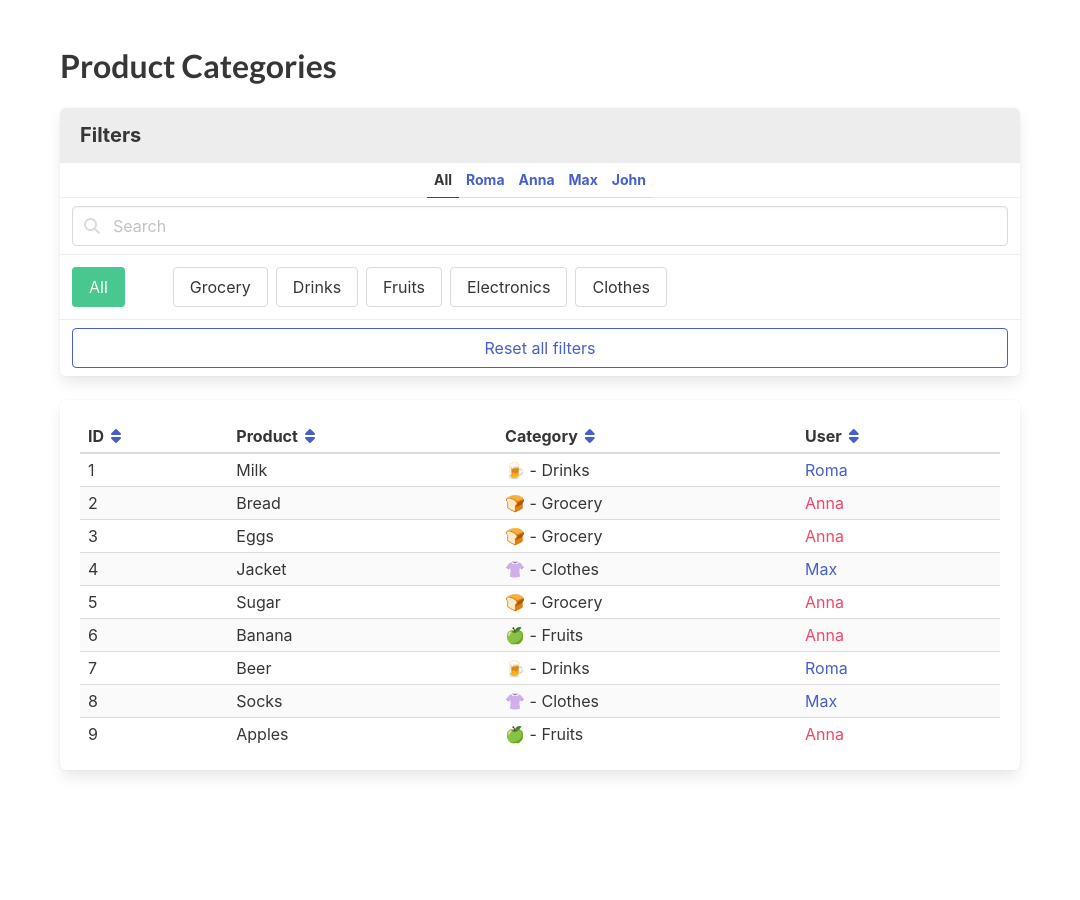
Test: Filter by Product name › should show the initial products after clearing the input
The width and height of the screenshot is (1080, 900).
Type "app" into the field with test id "SearchField" at (540, 226), box [72, 206, 1008, 246]
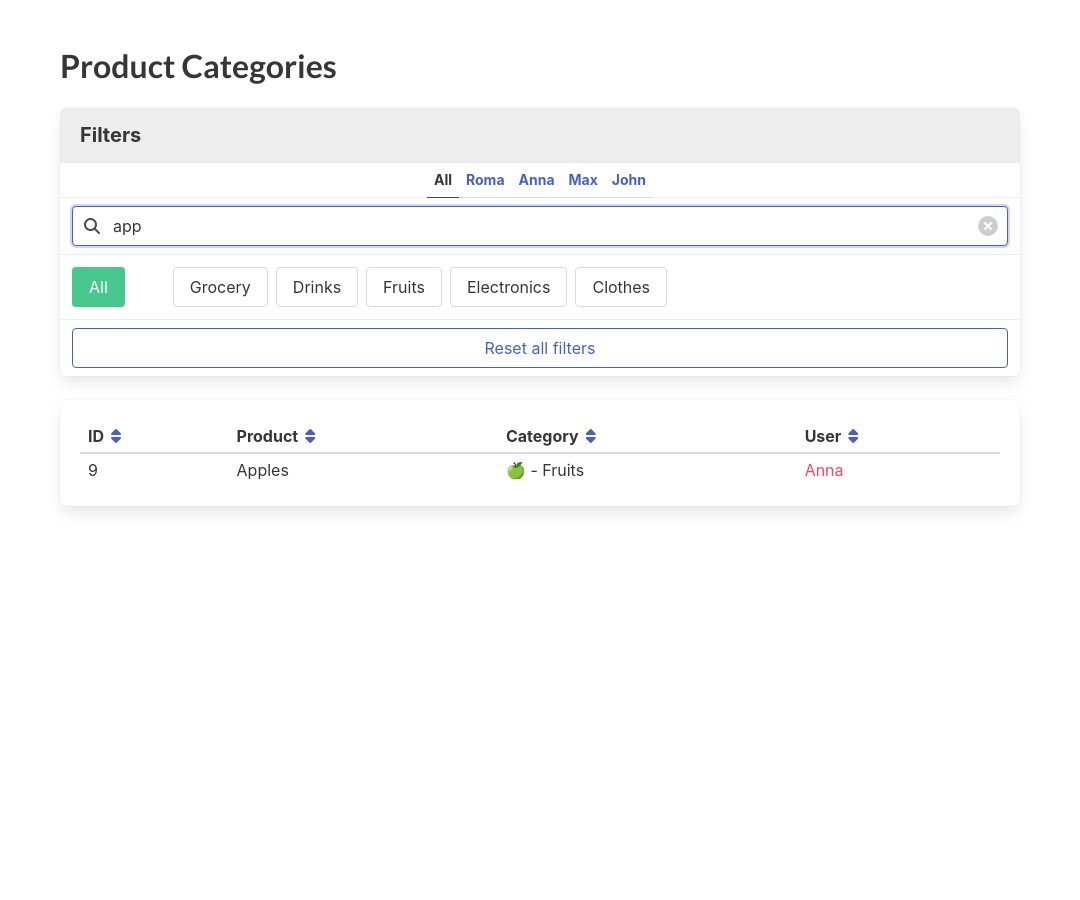
Click the button with test id "ClearButton" at (988, 226), box [978, 216, 998, 236]
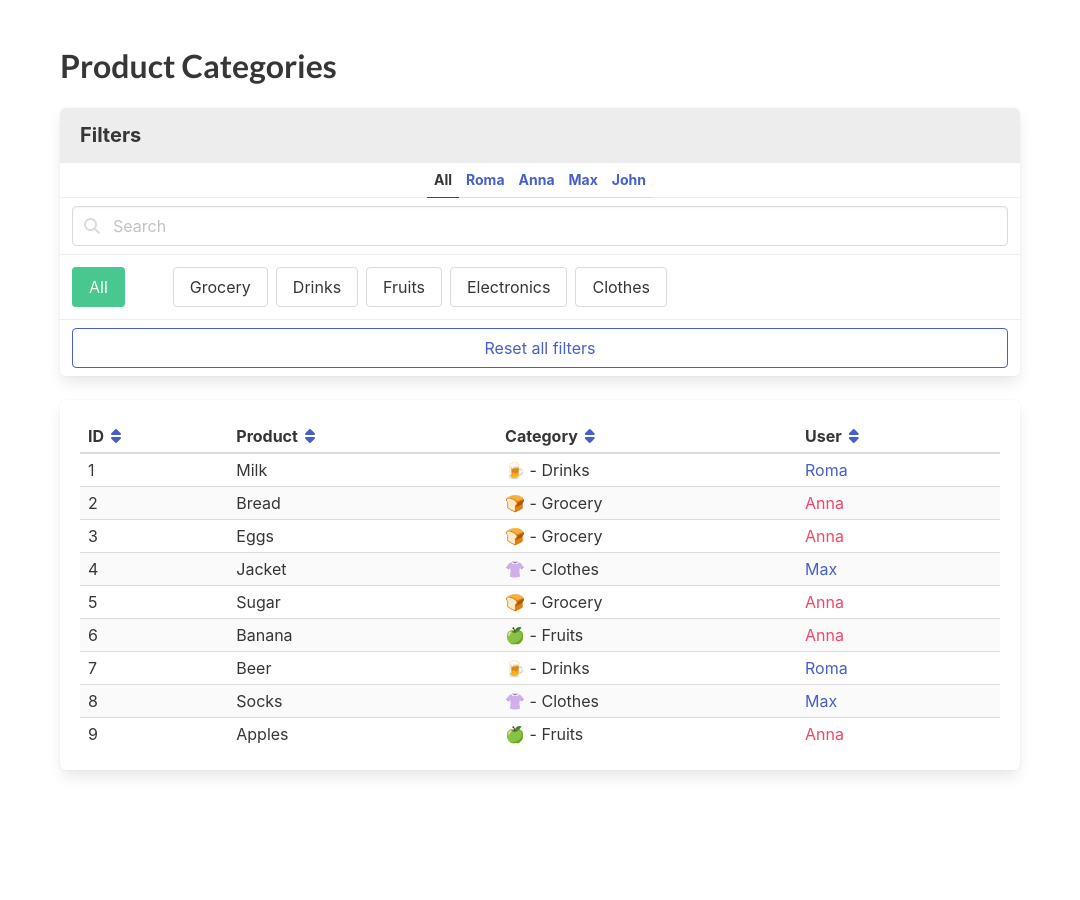
Expected: the number of rows with test id "Product" is 9
